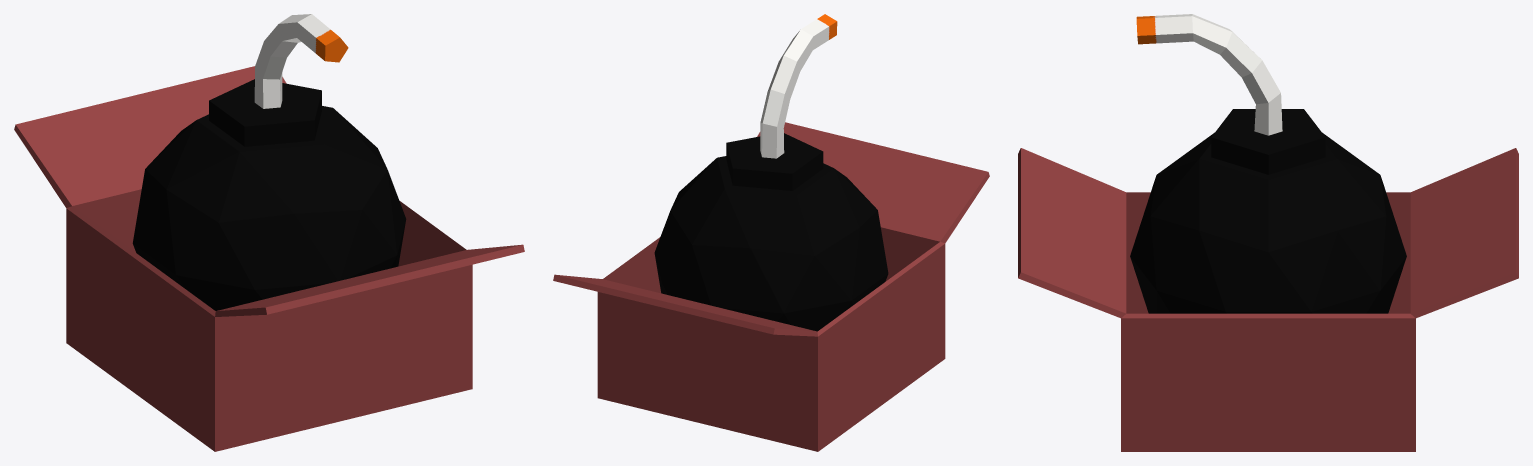
The model's file is bomb_powerup.gltf.
3 views of the same model, side by side, from view 1: azimuth 30°, elevation 25°; view 2: azimuth 150°, elevation 25°; view 3: azimuth 270°, elevation 25° (orthographic). The views are drawn at different scales.
Visible parts, largest first — view 1: Box, Bomb; view 2: Box, Bomb; view 3: Box, Bomb.
Part boxes in pixels (x1,y1,x2,y2): Box: [14, 66, 524, 451]; Bomb: [132, 14, 406, 310]; Box: [553, 122, 989, 451]; Bomb: [654, 14, 888, 331]; Box: [1018, 148, 1518, 451]; Bomb: [1130, 14, 1406, 313].
Size of the model in its own units: 2 by 2.81 by 3.4.
2 materials, 2 textured.
